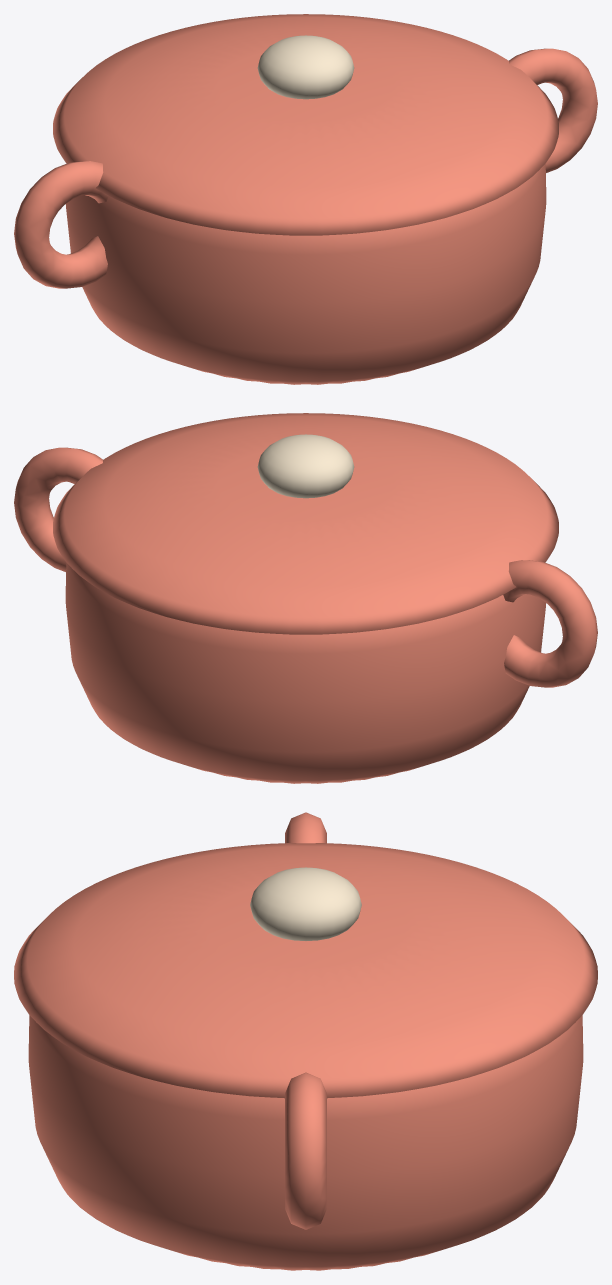
Rendered from pot_b.glb.
The picture shows the model from 3 angles, top to bottom: view 1: azimuth 30°, elevation 25°; view 2: azimuth 150°, elevation 25°; view 3: azimuth 270°, elevation 25°; orthographic projection. The views are drawn at different scales.
Visible parts, largest first — view 1: body; view 2: body; view 3: body.
Boxes of the visible parts, x1,y1,x2,y2 form: body: (14, 14, 597, 384); body: (14, 413, 597, 783); body: (14, 812, 597, 1270).
Size of the model in its own units: 0.332 by 0.149 by 0.2507.
